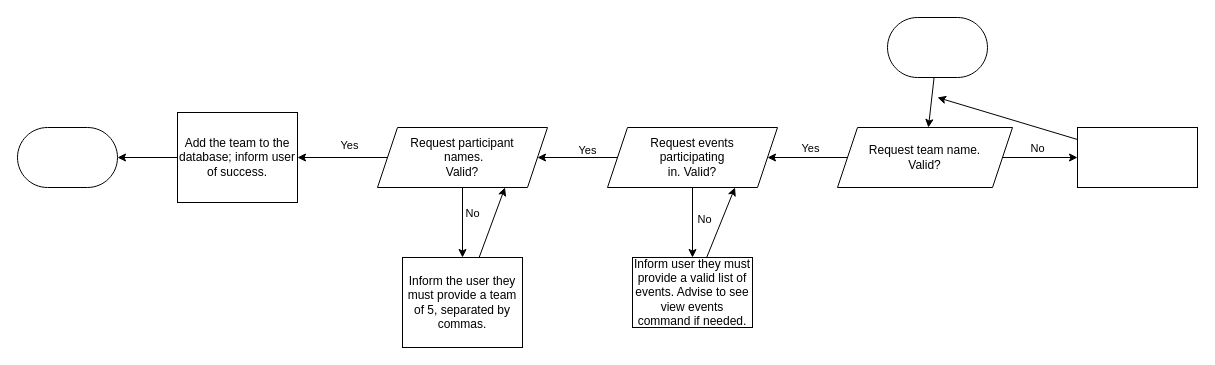
This 1215x365 diagram has some shape labels left out. The centre of each missing label's shape, as x and y in pixels:
"End" goes at [67,157].
"Inform user they must provide a name." goes at [1137,157].
"Start" goes at [937,47].
